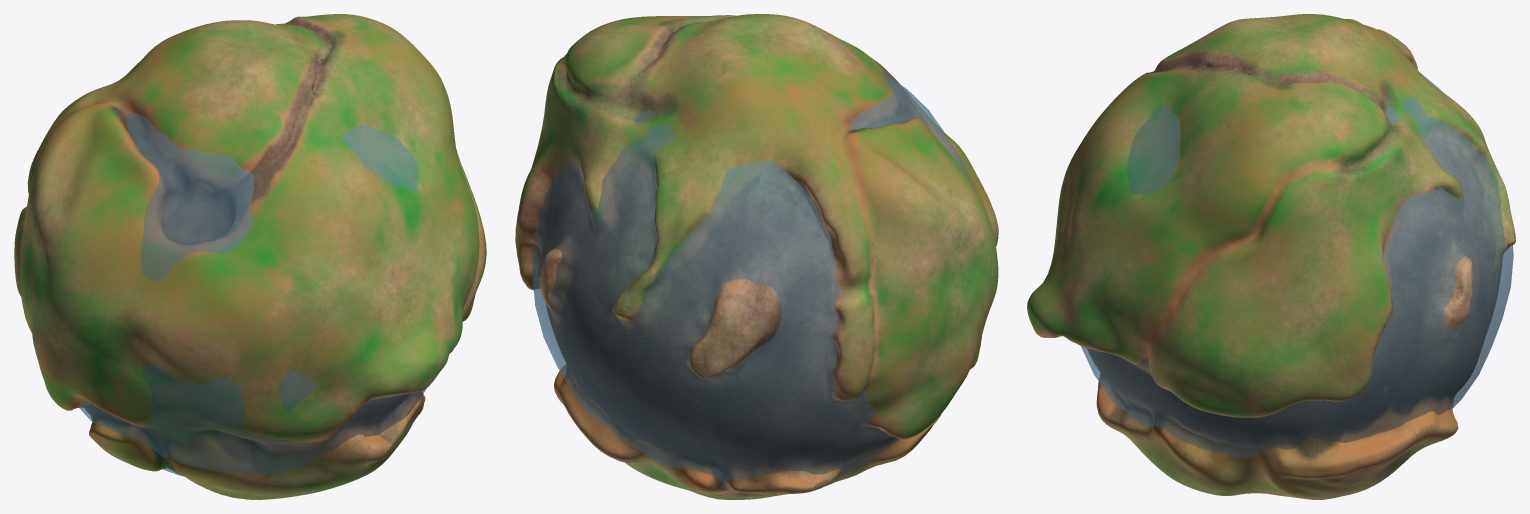
Rendered from Earthlike_programmerP1.fbx.
The picture shows the model from 3 angles, left to right: view 1: azimuth 30°, elevation 25°; view 2: azimuth 150°, elevation 25°; view 3: azimuth 270°, elevation 25°; orthographic projection. The views are drawn at different scales.
Visible parts, largest first — view 1: UpBum, Water; view 2: UpBum, Water; view 3: UpBum, Water.
Part boxes in pixels (x1=…): UpBum: x1=14, y1=14, x2=486, y2=499; Water: x1=79, y1=113, x2=426, y2=477; UpBum: x1=515, y1=14, x2=998, y2=499; Water: x1=532, y1=73, x2=974, y2=485; UpBum: x1=1027, y1=14, x2=1515, y2=499; Water: x1=1081, y1=73, x2=1513, y2=458.
Bounding box in the file's own units: 77.62 × 76.7 × 76.26.
